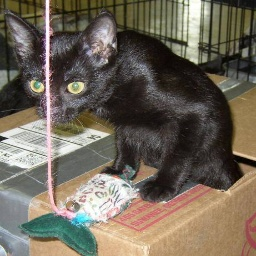cat: (4, 10, 243, 205)
